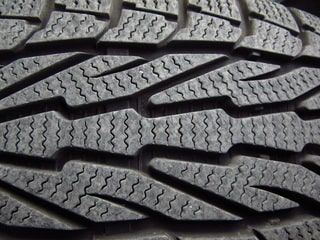new_condition: (1, 1, 320, 237)
